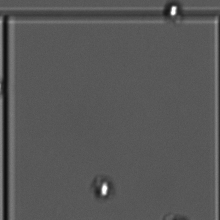Living Cell: (90, 172, 120, 204), (158, 1, 189, 29)
